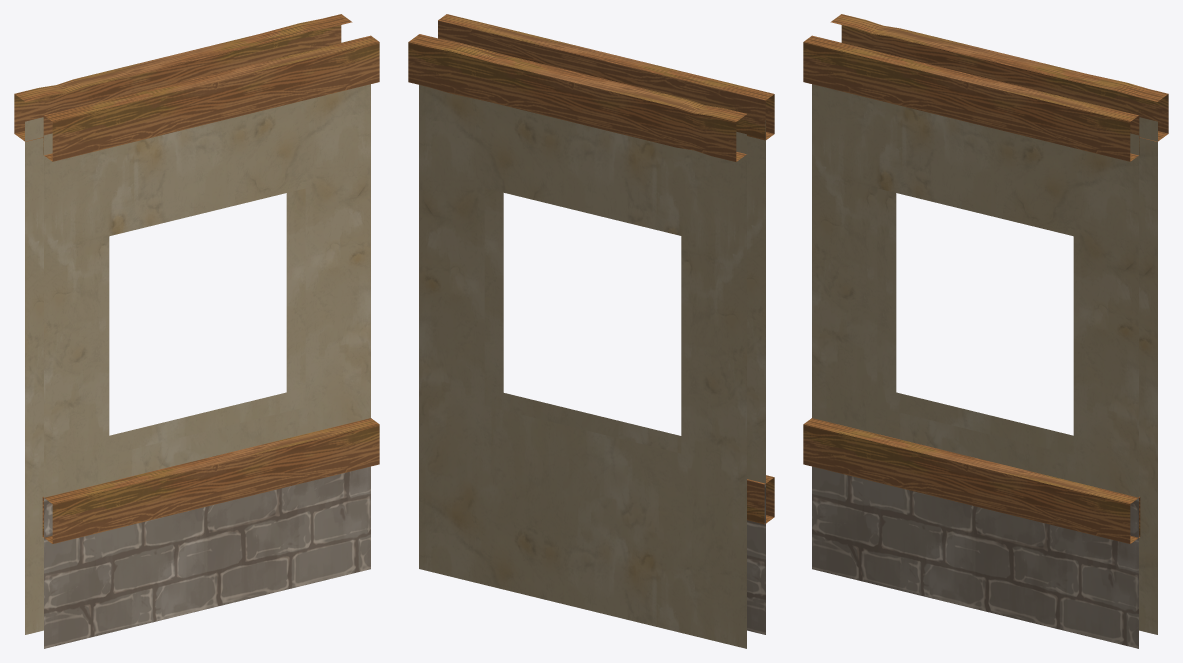
Rendered from Wall_Plaster_Window_Wide_Flat.gltf.
The picture shows the model from 3 angles, left to right: view 1: azimuth 30°, elevation 25°; view 2: azimuth 150°, elevation 25°; view 3: azimuth 330°, elevation 25°; orthographic projection.
Visible parts, largest first — view 1: Wall_Plaster_Window_Wide_Flat; view 2: Wall_Plaster_Window_Wide_Flat; view 3: Wall_Plaster_Window_Wide_Flat.
Part boxes in pixels (x1,y1,x2,y2): Wall_Plaster_Window_Wide_Flat: (14,14,379,648); Wall_Plaster_Window_Wide_Flat: (408,14,774,648); Wall_Plaster_Window_Wide_Flat: (803,14,1168,648).
Bounding box in the file's own units: 2 × 3.12 × 0.4065.
3 materials, 3 textured.
